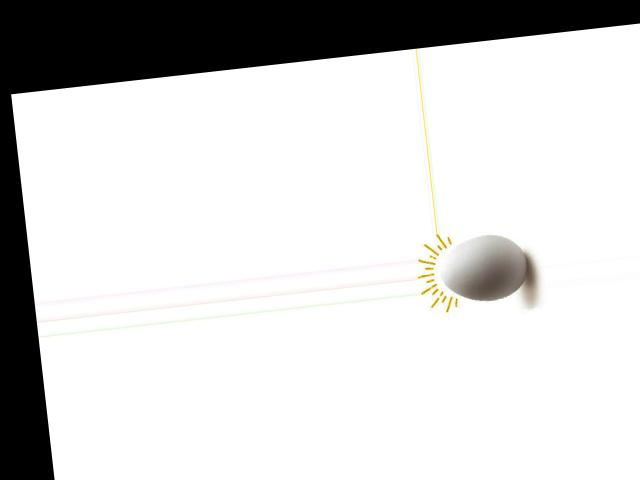egg: (437, 230, 530, 305)
